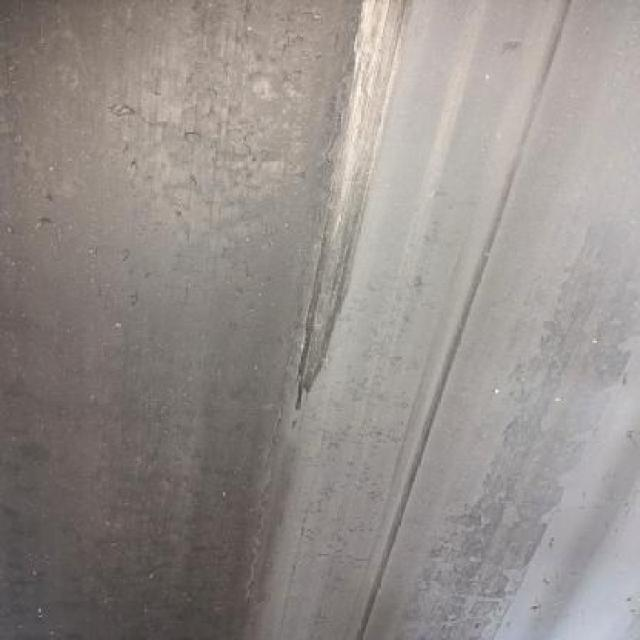Wear: (287, 0, 412, 414)
